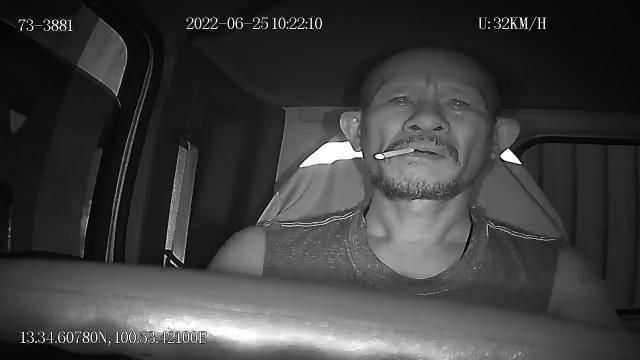SafeDriving: (382, 86, 421, 113), (438, 88, 475, 115)
Smoking: (374, 148, 414, 160)
